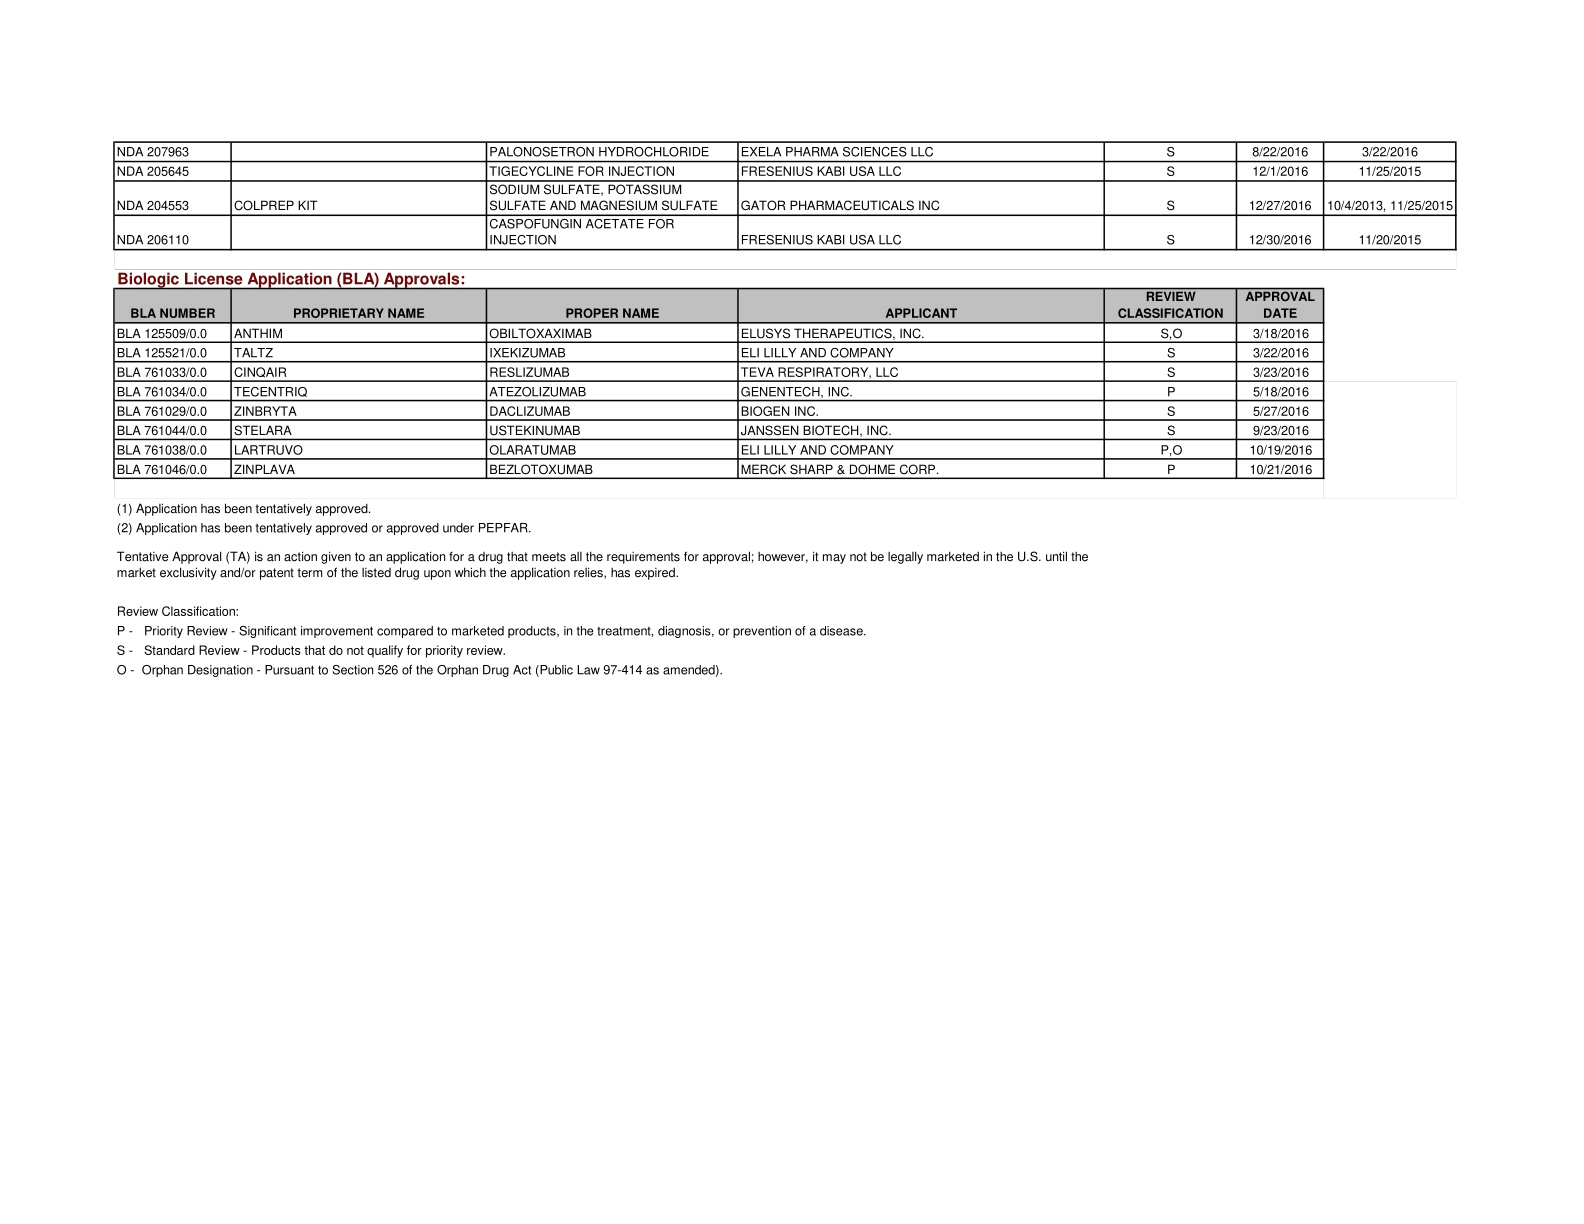full_lined: (112, 287, 1326, 480), (112, 141, 1457, 251)
